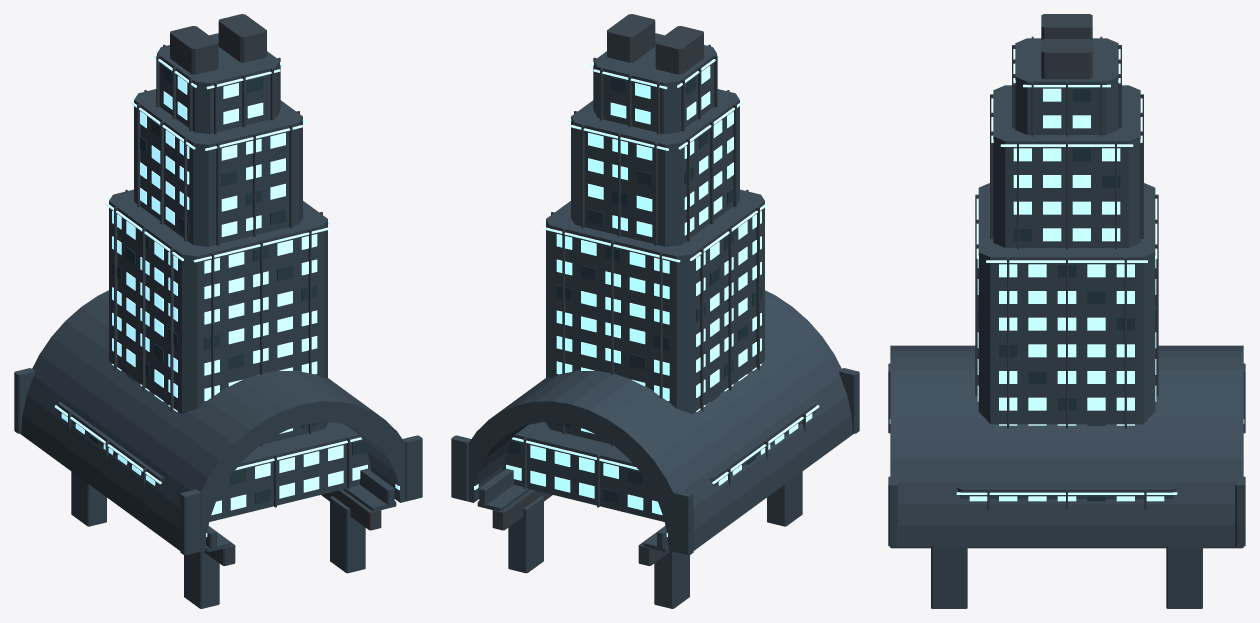
Rendered from city.glb.
The picture shows the model from 3 angles, left to right: view 1: azimuth 30°, elevation 25°; view 2: azimuth 150°, elevation 25°; view 3: azimuth 270°, elevation 25°; orthographic projection. The views are drawn at different scales.
Parts seen in each view (by area): view 1: Short vaulted road gallery, Chamfered setback.001, Chamfered setback.002, Chamfered setback, Chamfered setback.003, Tapered bridge pier.002, Rooftop plant, Rooftop plant.001, Tapered bridge pier, Tapered bridge pier.001, Portal rib buttress, Portal rib buttress.001 (+9 smaller); view 2: Short vaulted road gallery, Chamfered setback.001, Chamfered setback.002, Chamfered setback, Chamfered setback.003, Tapered bridge pier.003, Rooftop plant, Rooftop plant.001, Tapered bridge pier.001, Tapered bridge pier, Portal rib buttress.002, Portal rib buttress.003 (+9 smaller); view 3: Short vaulted road gallery, Chamfered setback.001, Chamfered setback.002, Chamfered setback.003, Tapered bridge pier.002, Tapered bridge pier.003, Rooftop plant.001, Chamfered setback, Rooftop plant, Bridge lower stringer.001, Portal rib buttress.001, Portal rib buttress.003 (+5 smaller).
Part boxes in pixels (x1,y1,x2,y2): Short vaulted road gallery: (20, 290, 406, 551); Chamfered setback.001: (109, 189, 327, 444); Chamfered setback.002: (134, 89, 302, 246); Chamfered setback: (58, 401, 371, 521); Chamfered setback.003: (157, 33, 279, 133); Tapered bridge pier.002: (330, 496, 365, 573); Rooftop plant: (170, 26, 218, 74); Rooftop plant.001: (218, 14, 266, 62); Tapered bridge pier: (184, 551, 219, 608); Tapered bridge pier.001: (71, 471, 106, 526); Portal rib buttress: (180, 489, 200, 555); Portal rib buttress.001: (402, 435, 422, 501); Short vaulted road gallery: (467, 290, 853, 551); Chamfered setback.001: (546, 189, 764, 444); Chamfered setback.002: (571, 89, 739, 246); Chamfered setback: (502, 401, 815, 521); Chamfered setback.003: (594, 33, 716, 133); Tapered bridge pier.003: (508, 496, 543, 573); Rooftop plant: (655, 26, 703, 74); Rooftop plant.001: (607, 14, 655, 62); Tapered bridge pier.001: (654, 551, 689, 608); Tapered bridge pier: (767, 471, 802, 526); Portal rib buttress.002: (673, 489, 693, 555); Portal rib buttress.003: (451, 435, 471, 501); Short vaulted road gallery: (890, 345, 1243, 546); Chamfered setback.001: (978, 183, 1155, 424); Chamfered setback.002: (993, 85, 1140, 247); Chamfered setback.003: (1015, 38, 1118, 134); Tapered bridge pier.002: (931, 546, 967, 608); Tapered bridge pier.003: (1166, 546, 1202, 608); Rooftop plant.001: (1041, 39, 1092, 79); Chamfered setback: (956, 487, 1177, 498); Rooftop plant: (1041, 14, 1092, 39); Bridge lower stringer.001: (890, 546, 1243, 548); Portal rib buttress.001: (888, 476, 898, 546); Portal rib buttress.003: (1235, 476, 1245, 546).
Size of the model in its own units: 19.6 by 40 by 24.3.
